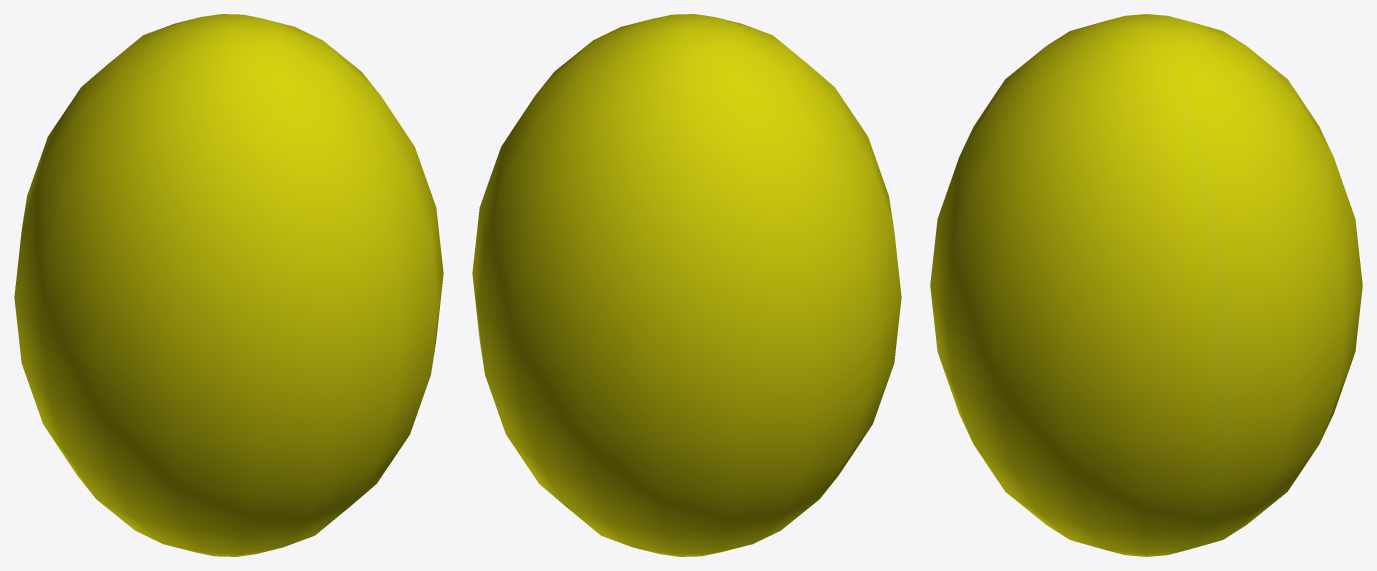
Rendered from egg_16.fbx.
3 views of the same model, side by side, from view 1: azimuth 30°, elevation 25°; view 2: azimuth 150°, elevation 25°; view 3: azimuth 270°, elevation 25° (orthographic).
Parts seen in each view (by area): view 1: egg_16; view 2: egg_16; view 3: egg_16.
Boxes of the visible parts, x1,y1,x2,y2 form: egg_16: [14, 14, 443, 556]; egg_16: [472, 14, 901, 556]; egg_16: [930, 14, 1362, 556].
Size of the model in its own units: 9.95 by 13.02 by 9.95.
